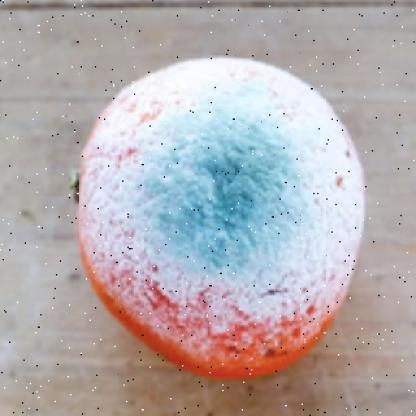rotten: (73, 57, 367, 383)
